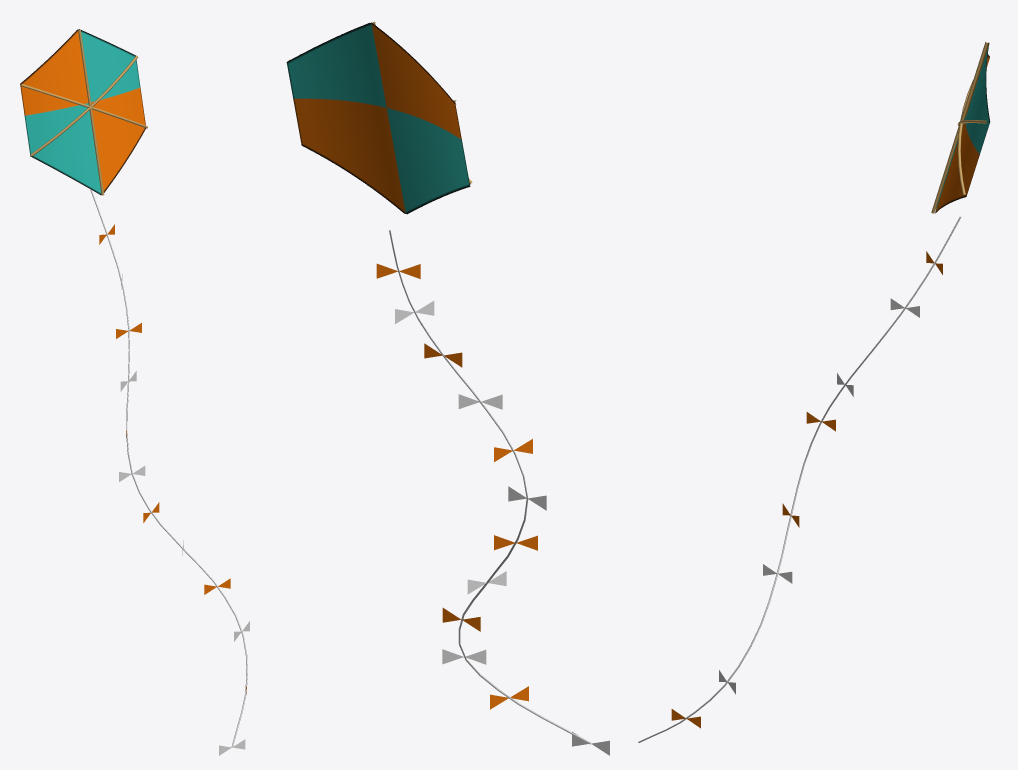
File: raia-6.glb
The picture shows the model from 3 angles, left to right: view 1: azimuth 30°, elevation 25°; view 2: azimuth 150°, elevation 25°; view 3: azimuth 270°, elevation 25°; orthographic projection. The views are drawn at different scales.
Visible parts, largest first — view 1: raia-6; view 2: raia-6; view 3: raia-6.
Part boxes in pixels (bbox=[...]): raia-6: bbox=[20, 29, 249, 755]; raia-6: bbox=[286, 21, 609, 755]; raia-6: bbox=[638, 42, 990, 742].
Bounding box in the file's own units: 1.19 × 5.81 × 2.73.
Materials: 5 (1 with a texture image).
